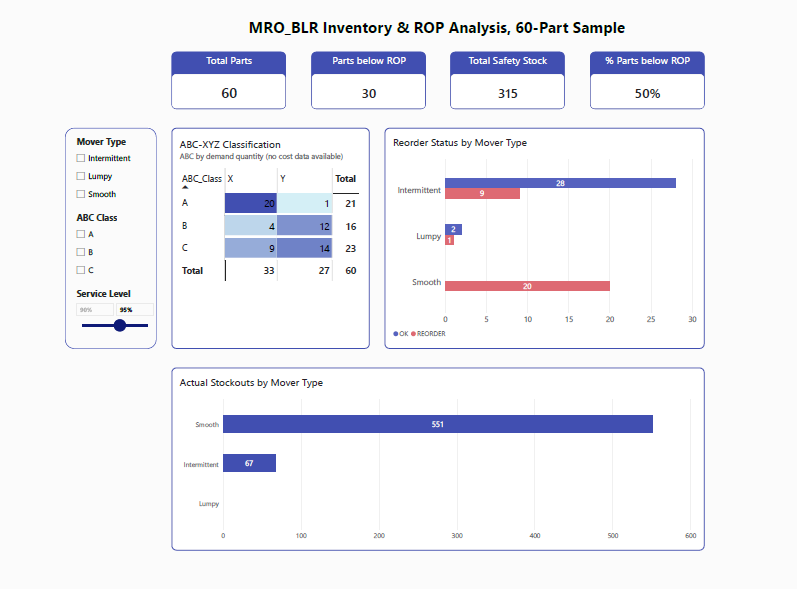

The dashboard page shown, as its layout file describes it:
{"tool":"powerbi","page":{"name":"Dashboard","canvas":[1700,1280],"ordinal":0},"visuals":[{"type":"shape","box":[154,282,192,464],"z":0},{"type":"cardVisual","title":"Total Parts","fields":{"Data":["Calendar.Total Parts"]},"box":[378,122,240,120],"z":1000},{"type":"cardVisual","title":"Parts below ROP","fields":{"Data":["Calendar.Parts_Below_ROP"]},"box":[671.3,122,240,120],"z":2000},{"type":"clusteredBarChart","title":"Reorder Status by Mover Type","fields":{"Category":["PartSummary.MoverType"],"Series":["PartSummary.ReorderFlag"],"Y":["CountNonNull(PartSummary.part_id)"]},"box":[826,282,672,464],"z":3000},{"type":"clusteredBarChart","title":"Actual Stockouts by Mover Type","fields":{"Category":["PartSummary.MoverType"],"Y":["RawData.ActualStockouts"]},"box":[378,786,1120,384],"z":4000},{"type":"cardVisual","title":"Total Safety Stock","fields":{"Data":["PartSummary.Safety Stock"]},"box":[964.7,122,240,120],"z":5000},{"type":"cardVisual","title":"% Parts below ROP","fields":{"Data":["Calendar.PercentBelowROP"]},"box":[1258,122,240,120],"z":6000},{"type":"pivotTable","title":"ABC-XYZ Classification","fields":{"Columns":["PartSummary.XYZ_Class"],"Rows":["PartSummary.ABC_Class"],"Values":["CountNonNull(PartSummary.part_id)"]},"box":[378,282,416,464],"z":7000},{"type":"slicer","title":"FILTERS","fields":{"Values":["PartSummary.MoverType"]},"box":[170,298,160,160],"z":8000},{"type":"slicer","fields":{"Values":["PartSummary.ABC_Class"]},"box":[170,458,160,144],"z":9000},{"type":"slicer","title":"ServiceLevel","fields":{"Values":["ServiceLevelTable.Value"]},"box":[170,618,176,160],"z":10000},{"type":"textbox","box":[384,48,1104,96],"z":11000}]}

Visuals, with their boxes in screenshot pixels (x1, y1, x2, y2), scaled from the page's 1700x1280 canvas onto the 797x589 screenshot:
shape: <region>72, 130, 162, 343</region>
"Total Parts" cardVisual: <region>177, 56, 290, 111</region>
"Parts below ROP" cardVisual: <region>315, 56, 427, 111</region>
"Reorder Status by Mover Type" clusteredBarChart: <region>387, 130, 702, 343</region>
"Actual Stockouts by Mover Type" clusteredBarChart: <region>177, 362, 702, 538</region>
"Total Safety Stock" cardVisual: <region>452, 56, 565, 111</region>
"% Parts below ROP" cardVisual: <region>590, 56, 702, 111</region>
"ABC-XYZ Classification" pivotTable: <region>177, 130, 372, 343</region>
"FILTERS" slicer: <region>80, 137, 155, 211</region>
slicer - PartSummary.ABC_Class: <region>80, 211, 155, 277</region>
"ServiceLevel" slicer: <region>80, 284, 162, 358</region>
textbox: <region>180, 22, 698, 66</region>
